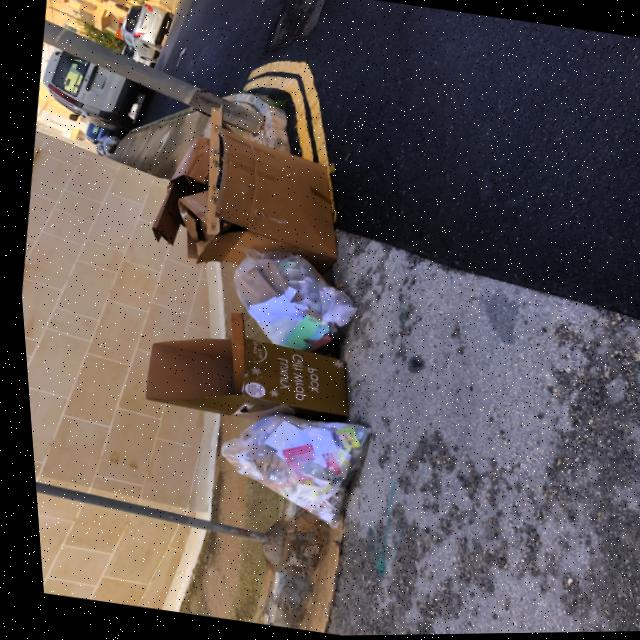Other: (135, 94, 359, 289), (134, 300, 357, 436)
Recycled Waste -Grey or Green Bag-: (200, 404, 373, 537), (218, 244, 364, 360)
